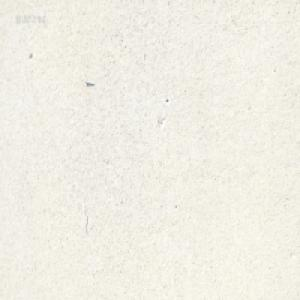Nail: (84, 79, 94, 85)
